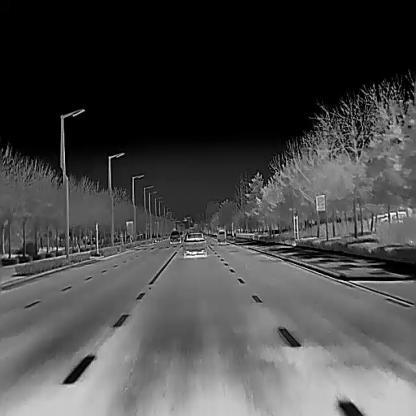car: (183, 232, 207, 255), (169, 229, 180, 242), (216, 229, 226, 242)
